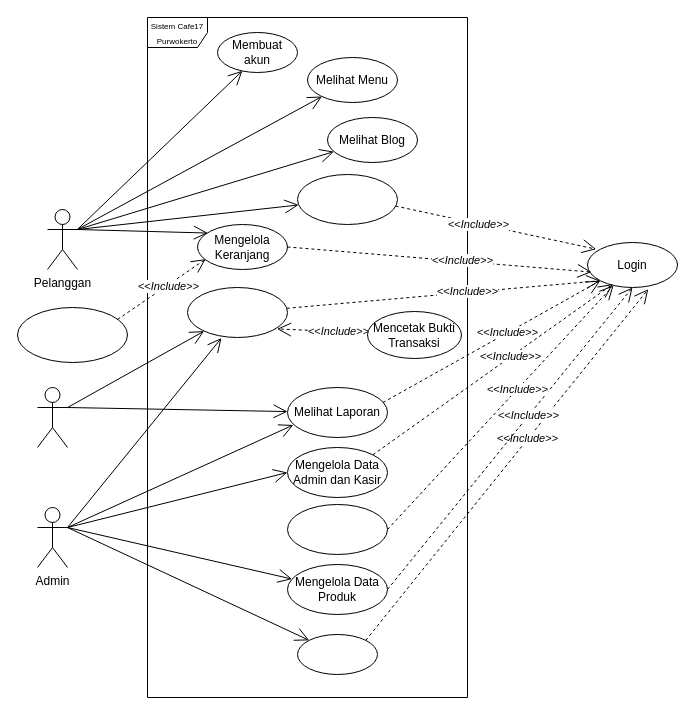
Image size: 695x715. Some labels were removed from this diagram. The shapes that lost their labels are listed below. From the top down, each one's centre as x and y in pixels, then its label:
At point 347,199: "Memesan Produk".
At point 237,312: "Mengelola Data Transaksi".
At point 72,334: "Mengonfirmasi via Whatsapp".
At point 52,417: "Kasir".
At point 337,529: "Mengelola Data Pelanggan".
At point 337,654: "Mengelola Data Blog".
